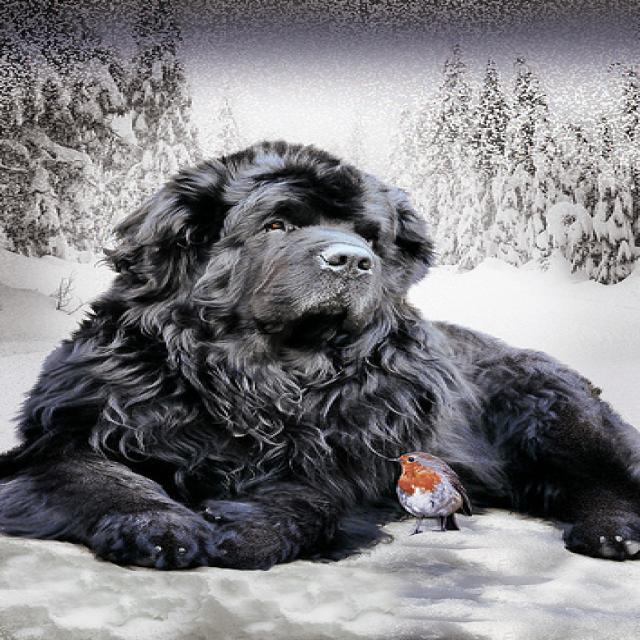dog-newfoundland: (2, 131, 636, 580)
